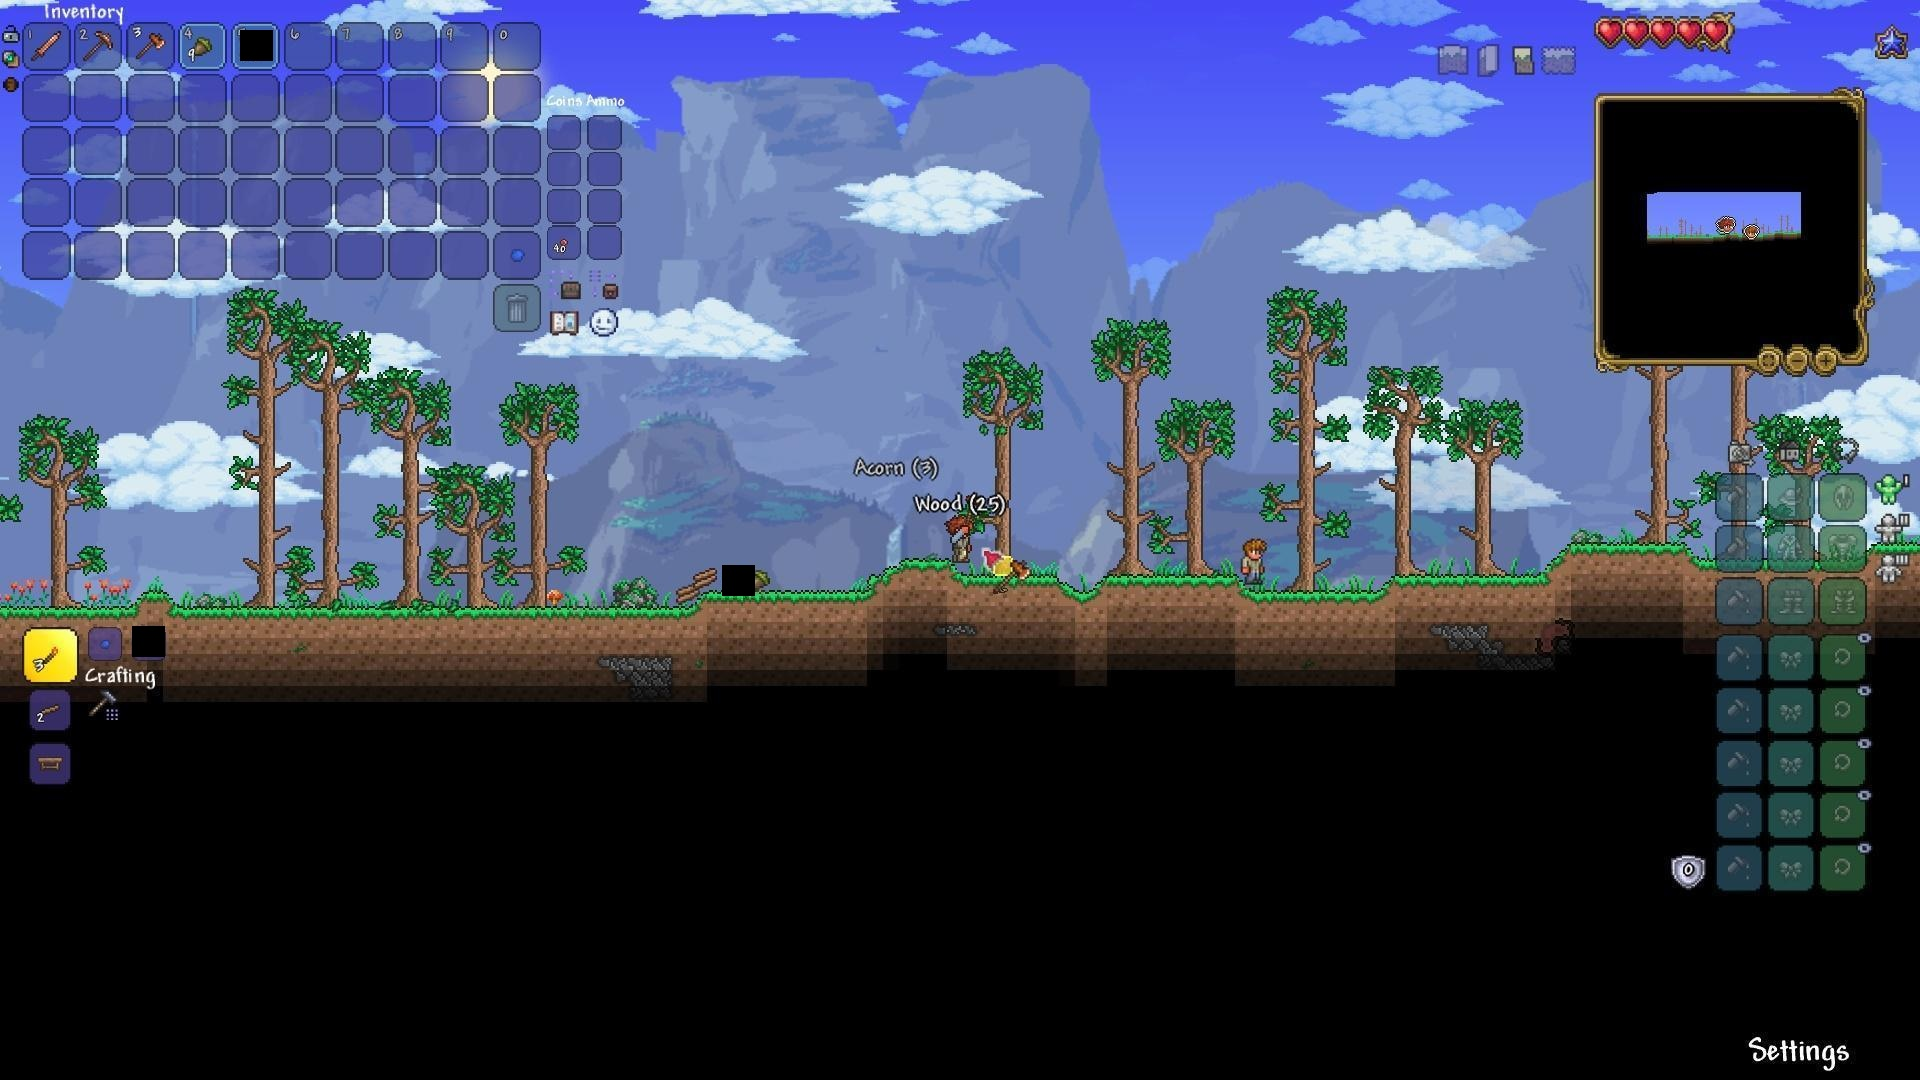wood: (673, 583, 704, 613), (690, 559, 721, 588)
workbench: (36, 753, 67, 775)
